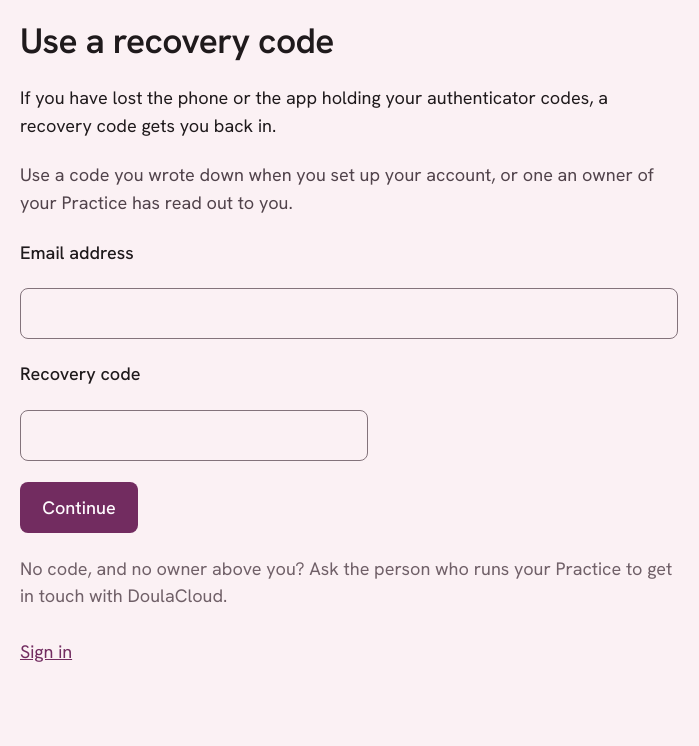
Test case: spending a recovery code › shows being throttled as an ordinary refusal on the form
Step 1. Type "anne-marie@example.test" into the field labelled "Email address" → (349,314), box 20,288 -> 678,339
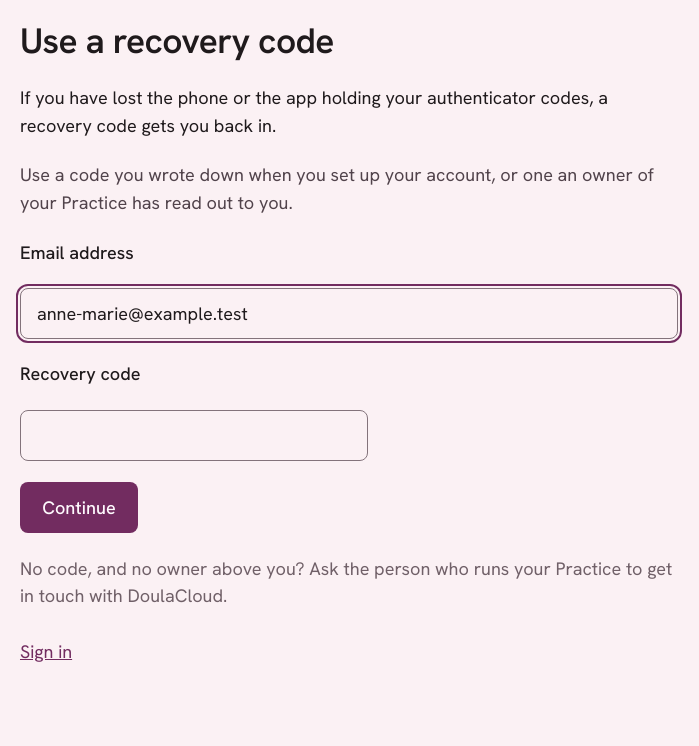
Step 2. Type "CODE-1" into the field labelled "Recovery code" → (194,435), box 20,410 -> 368,461
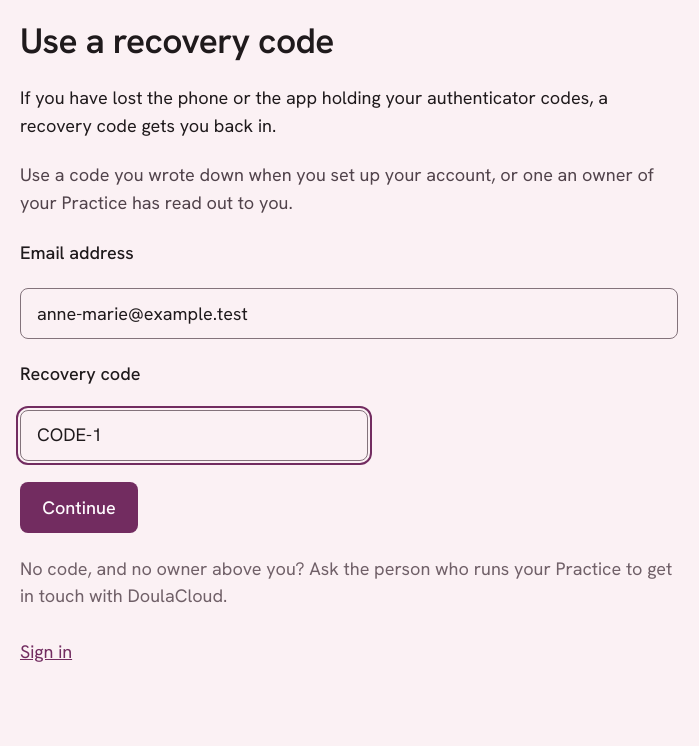
Step 3. Click the button "Continue" → (79,508), box 20,482 -> 138,533
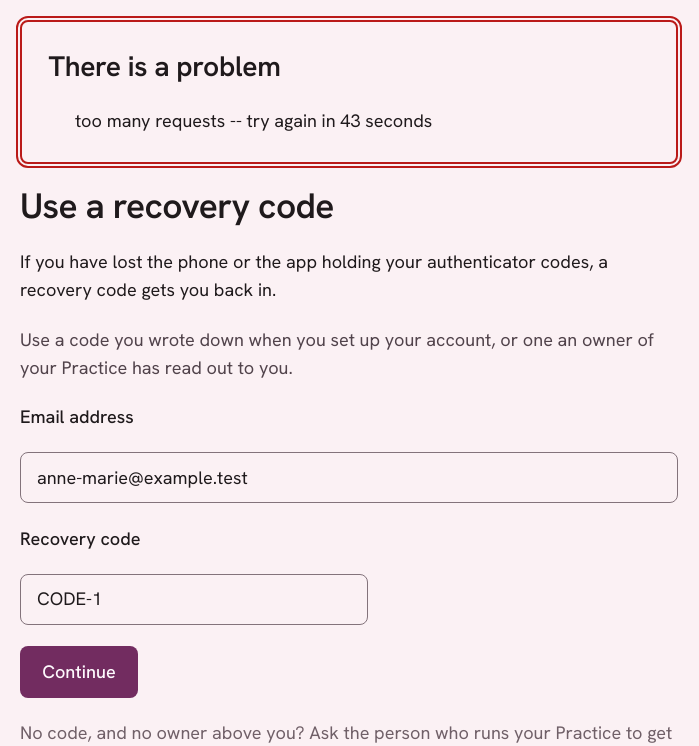
Now the list item "too many requests -- try again in 43 seconds" is shown, box 75,109 -> 432,132
